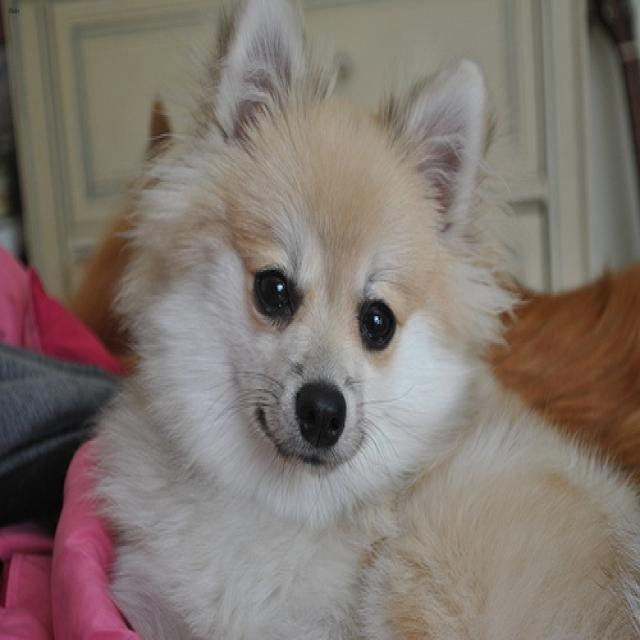dog-pomeranian: (81, 2, 637, 636)
